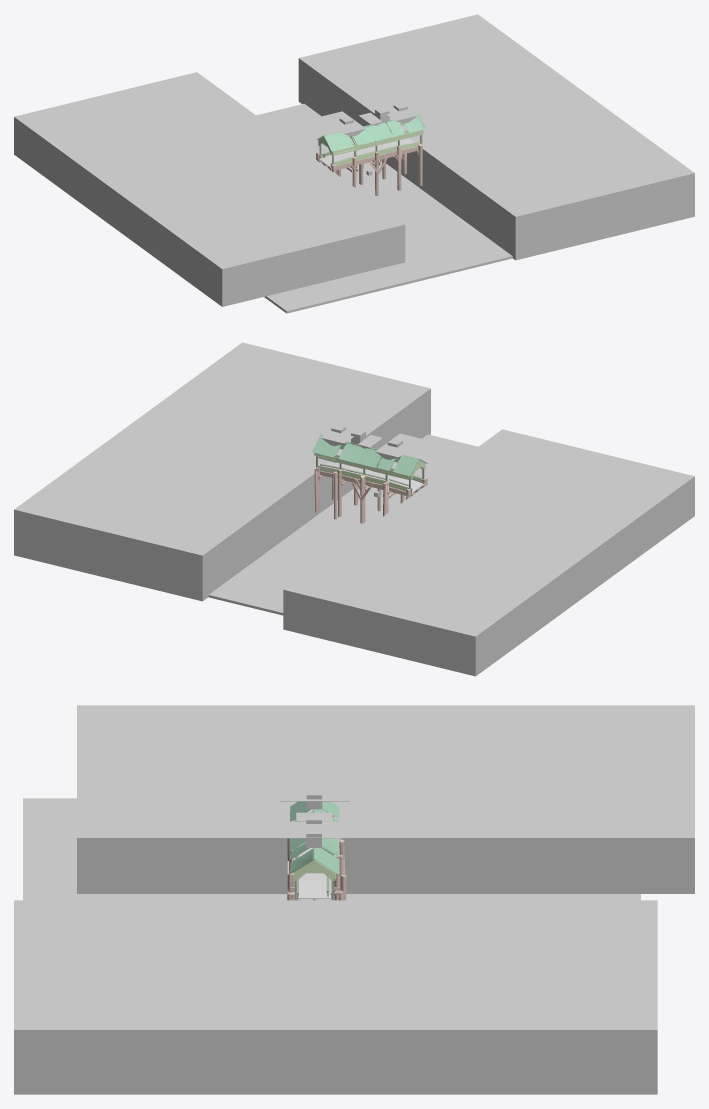
3 renders of one model, top to bottom at view 1: azimuth 30°, elevation 25°; view 2: azimuth 150°, elevation 25°; view 3: azimuth 270°, elevation 25°, orthographic. The views are drawn at different scales.
Visible parts, largest first — view 1: Cube.001, Cube.002, Cube, part_042, backup, Cube.004, Cube.005; view 2: Cube.001, Cube.002, Cube, part_042, backup, Cube.004, Cube.005; view 3: Cube.002, Cube.001, Cube, part_042, Cube.005, Cube.004, backup.
Boxes of the visible parts, x1,y1,x2,y2 form: Cube.001: (14, 72, 405, 306); Cube.002: (298, 14, 694, 260); Cube: (256, 103, 512, 313); part_042: (316, 112, 425, 190); backup: (316, 113, 422, 195); Cube.004: (320, 111, 365, 136); Cube.005: (372, 98, 417, 123); Cube.001: (283, 429, 694, 676); Cube.002: (14, 342, 430, 601); Cube: (208, 434, 477, 615); part_042: (312, 434, 427, 523); backup: (316, 435, 427, 522); Cube.004: (375, 433, 423, 459); Cube.005: (321, 419, 368, 445); Cube.002: (14, 900, 657, 1094); Cube.001: (77, 705, 694, 893); Cube: (23, 798, 640, 900); part_042: (287, 801, 346, 900); Cube.005: (279, 821, 349, 838); Cube.004: (279, 785, 349, 801); backup: (289, 808, 340, 900).
Bounding box in the file's own units: 450720 × 80238 × 397003.
